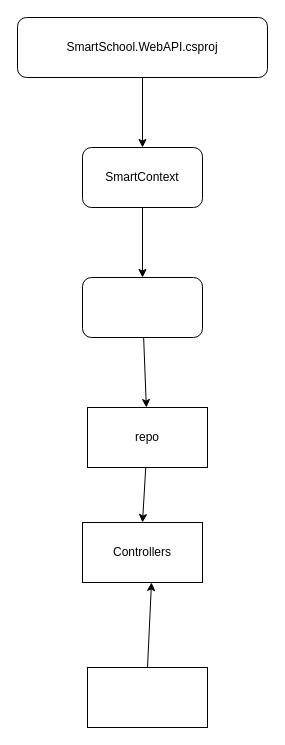
Some shapes in this 285 by 745 pixel diagram are drawn without their labels. Here are the shapes that lost their labels. From the top down, the centre of each, then its label:
At (142,307): "Startup.cs".
At (147,697): "Models".
